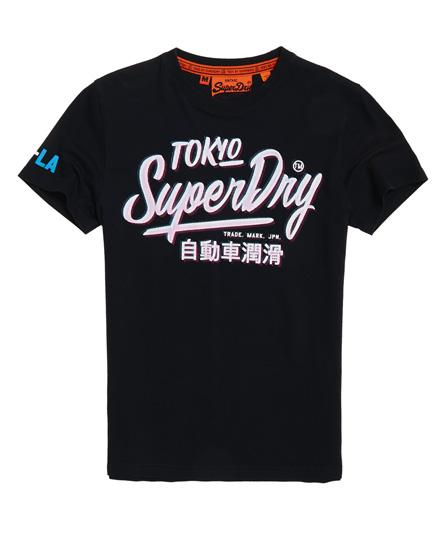teeshirt: (18, 42, 432, 499)
